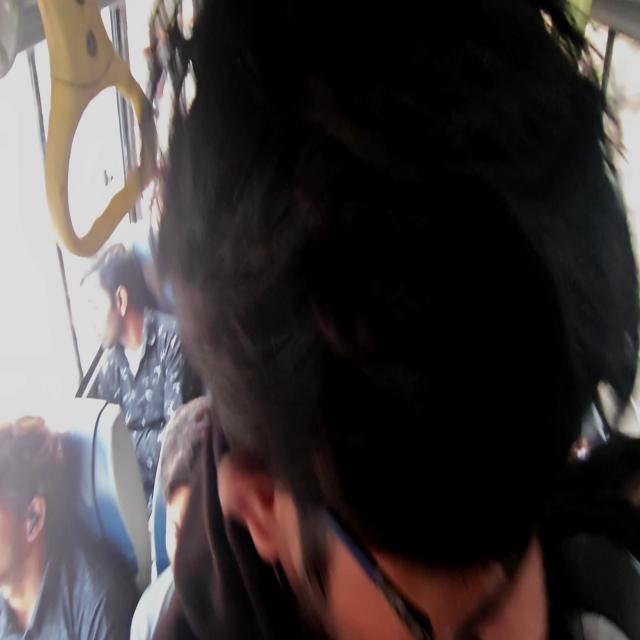person: (147, 1, 638, 638), (79, 240, 194, 582), (149, 395, 296, 638), (36, 0, 158, 258), (0, 414, 140, 638)
